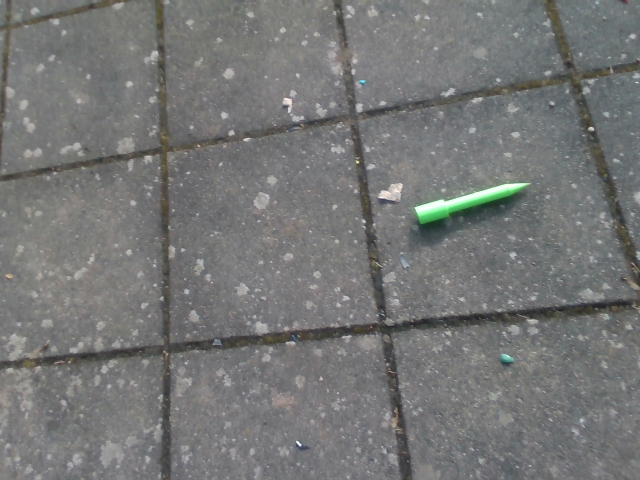Probe: (411, 176, 538, 234)
